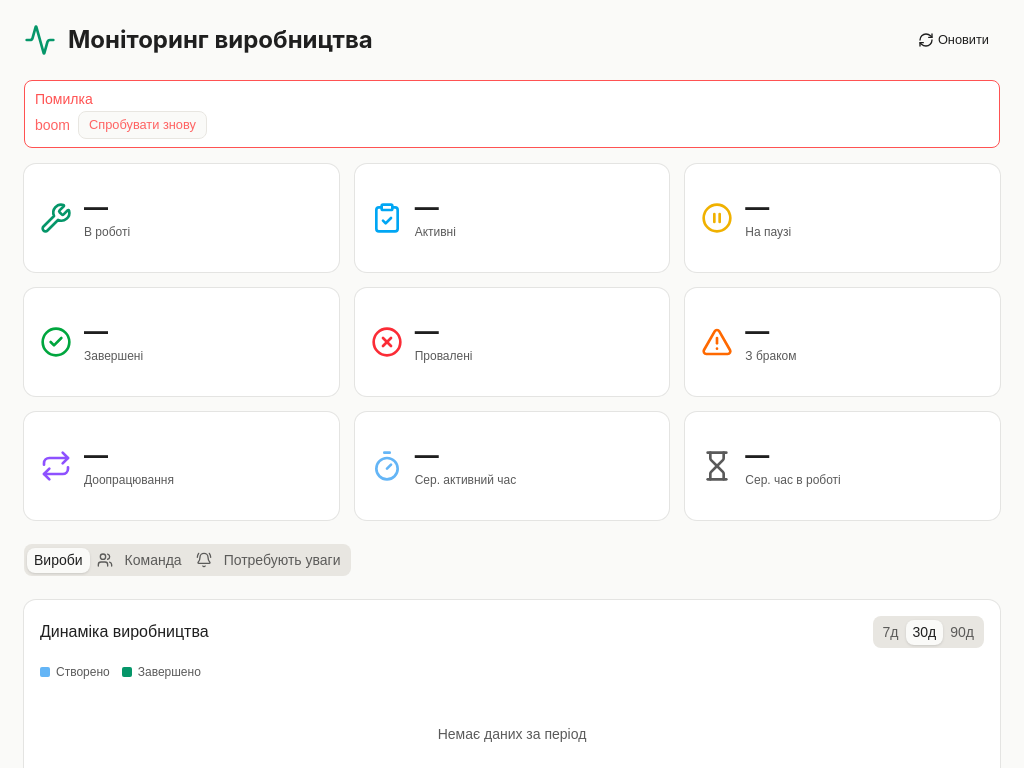
ProductionPage › shows an error with retry and reloads on retry
The image size is (1024, 768).
Expected: the text "Помилка" is shown, [35,91,93,107]
Click the button "Спробувати знову": (142, 125) [78,111,207,139]
(page scrolled)
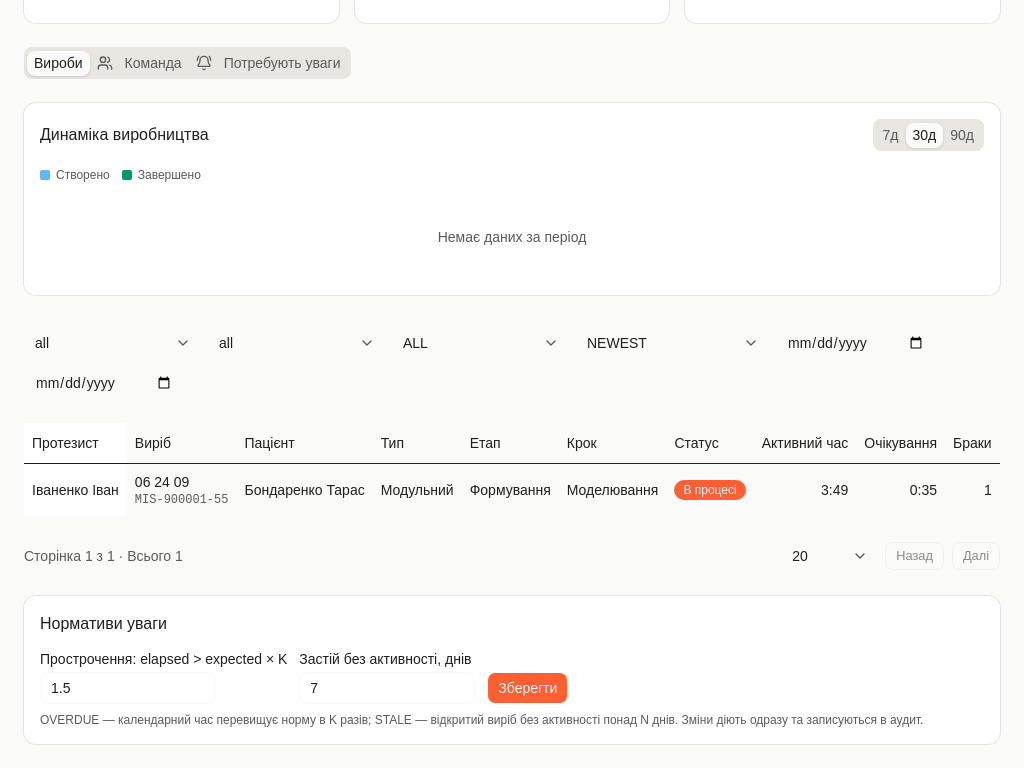
Expected: the text "Бондаренко Тарас" is shown, [236,463,373,516]
